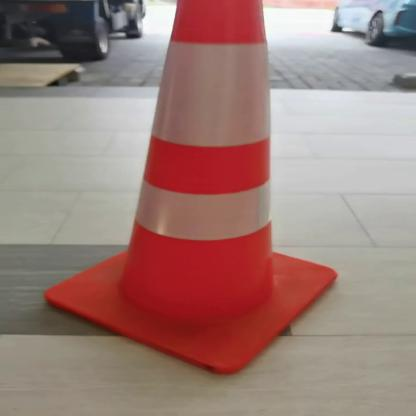cone: (28, 1, 347, 377)
